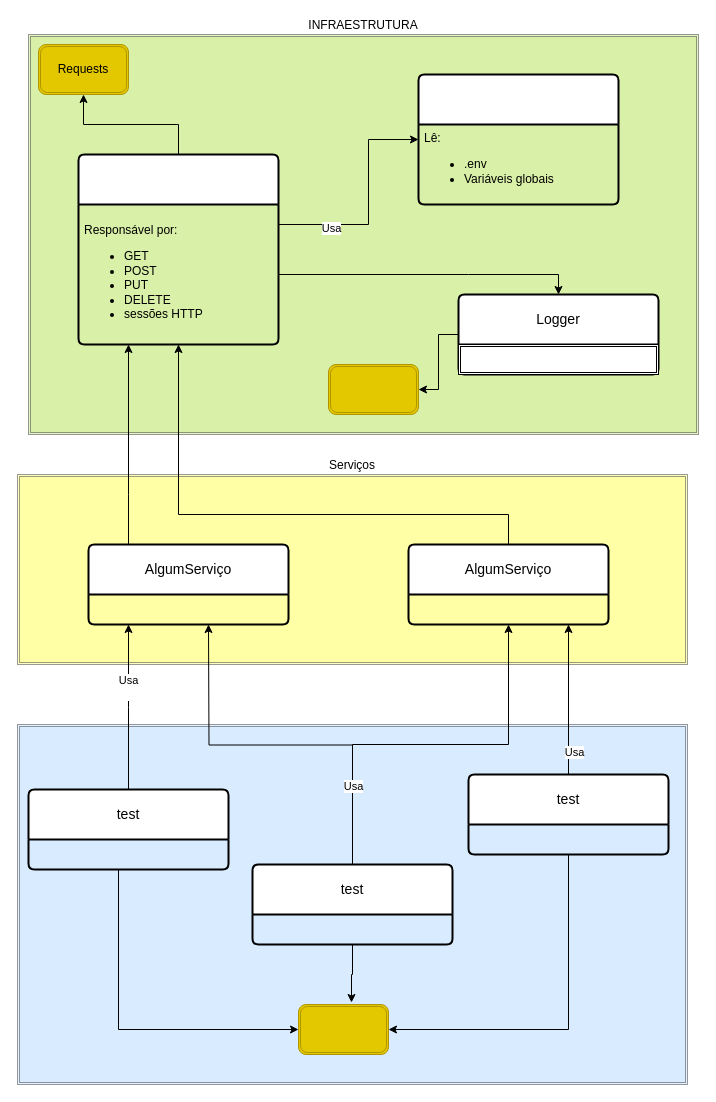
The diagram is 716 pixels wide and 1102 high, and some of its shapes have lost their labels. Here are the shapes that lost their labels. From the top down, the box of each, then its label:
(417, 73, 619, 205): <<Singleton>> ConfigManager
(77, 153, 279, 345): <<Singleton>> RequestManager
(328, 364, 418, 414): logging
(16, 724, 688, 1084): Testes
(298, 1004, 388, 1054): pytest
